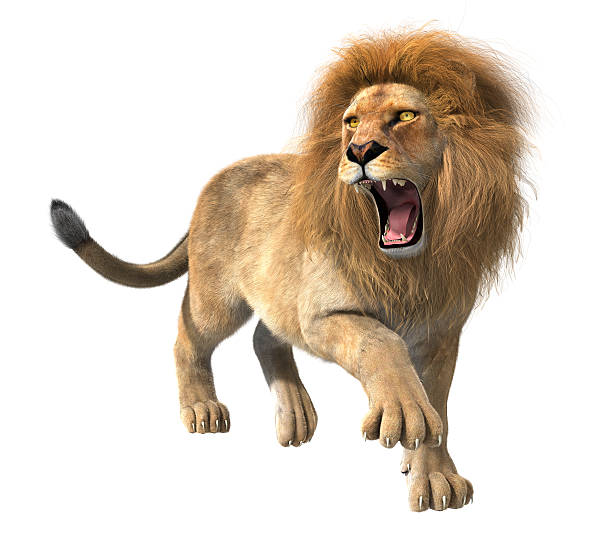lion: (288, 18, 554, 372)
